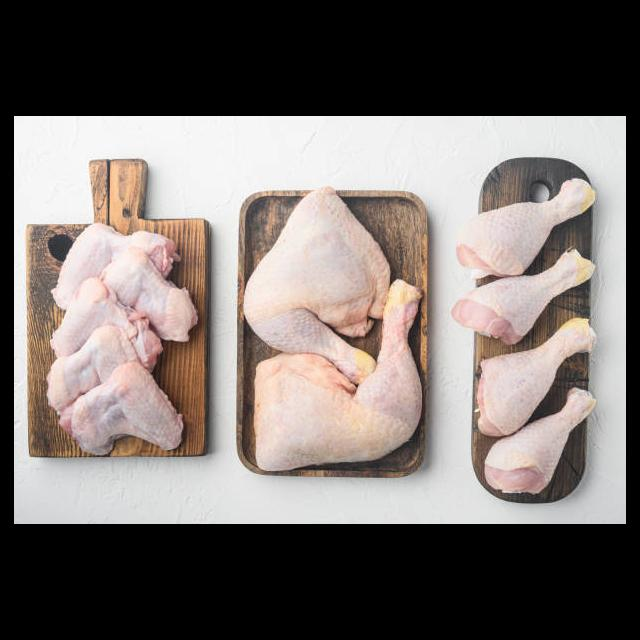chicken: (47, 223, 201, 451), (256, 284, 420, 468), (246, 185, 388, 379), (478, 318, 597, 436), (451, 249, 593, 347), (453, 182, 594, 277), (484, 386, 591, 495)
